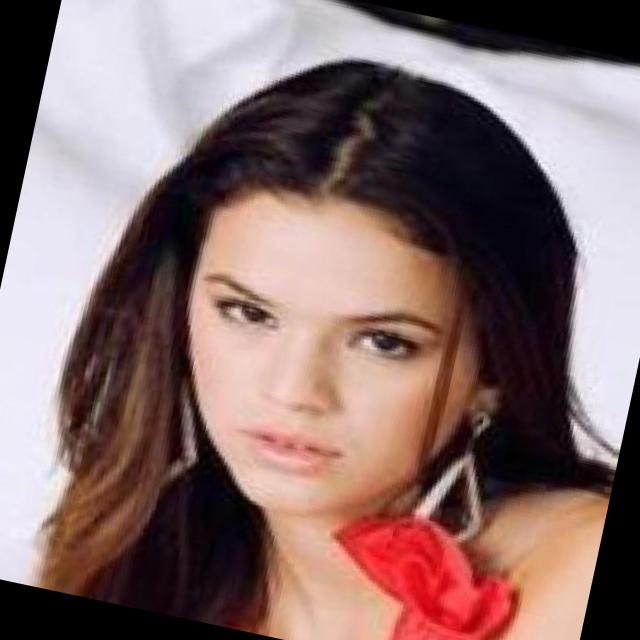bareface: (132, 150, 464, 530)
